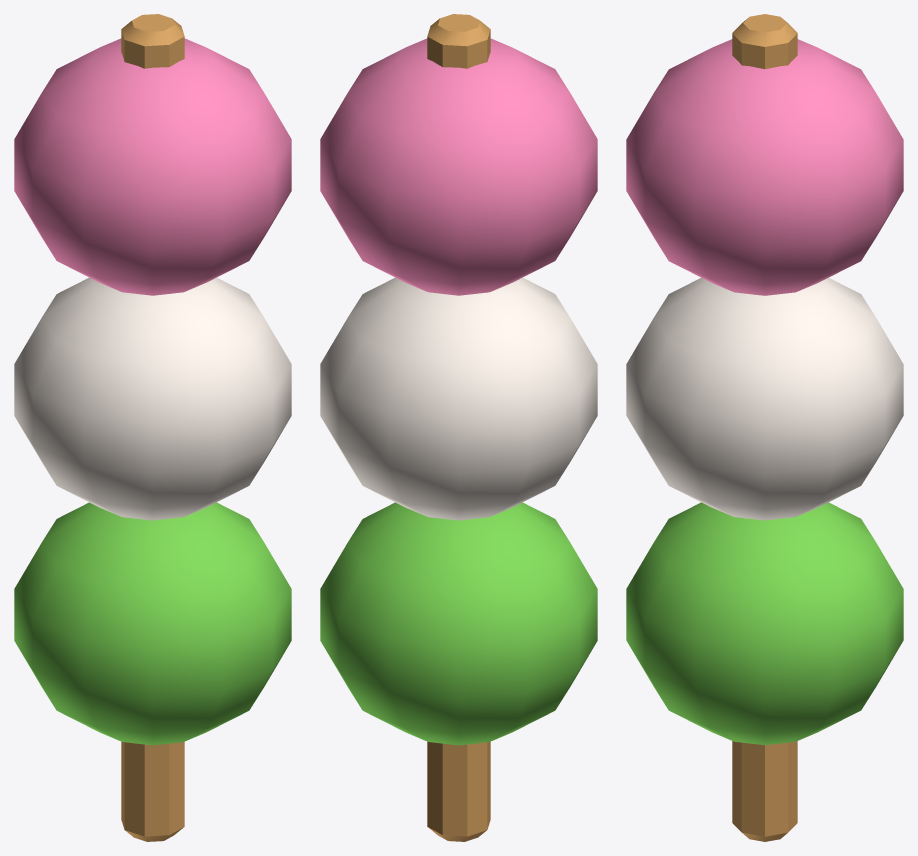
Rendered from Food_dango.glb.
3 views of the same model, side by side, from view 1: azimuth 30°, elevation 25°; view 2: azimuth 150°, elevation 25°; view 3: azimuth 270°, elevation 25° (orthographic).
Visible parts, largest first — view 1: Pink_FF8FC0, White_FFF6EE, Green_7ED957, Stick_D9A35F; view 2: Pink_FF8FC0, White_FFF6EE, Green_7ED957, Stick_D9A35F; view 3: Pink_FF8FC0, White_FFF6EE, Green_7ED957, Stick_D9A35F.
Part boxes in pixels (box(x1,y1,x2,y2)): Pink_FF8FC0: box(14, 38, 291, 295); White_FFF6EE: box(14, 277, 291, 520); Green_7ED957: box(14, 502, 291, 745); Stick_D9A35F: box(121, 14, 184, 841); Pink_FF8FC0: box(320, 38, 597, 295); White_FFF6EE: box(320, 277, 597, 520); Green_7ED957: box(320, 502, 597, 745); Stick_D9A35F: box(427, 14, 490, 841); Pink_FF8FC0: box(626, 39, 903, 295); White_FFF6EE: box(626, 277, 903, 520); Green_7ED957: box(626, 502, 903, 745); Stick_D9A35F: box(732, 14, 797, 841).
Bounding box in the file's own units: 0.7604 × 2.45 × 0.7604.
